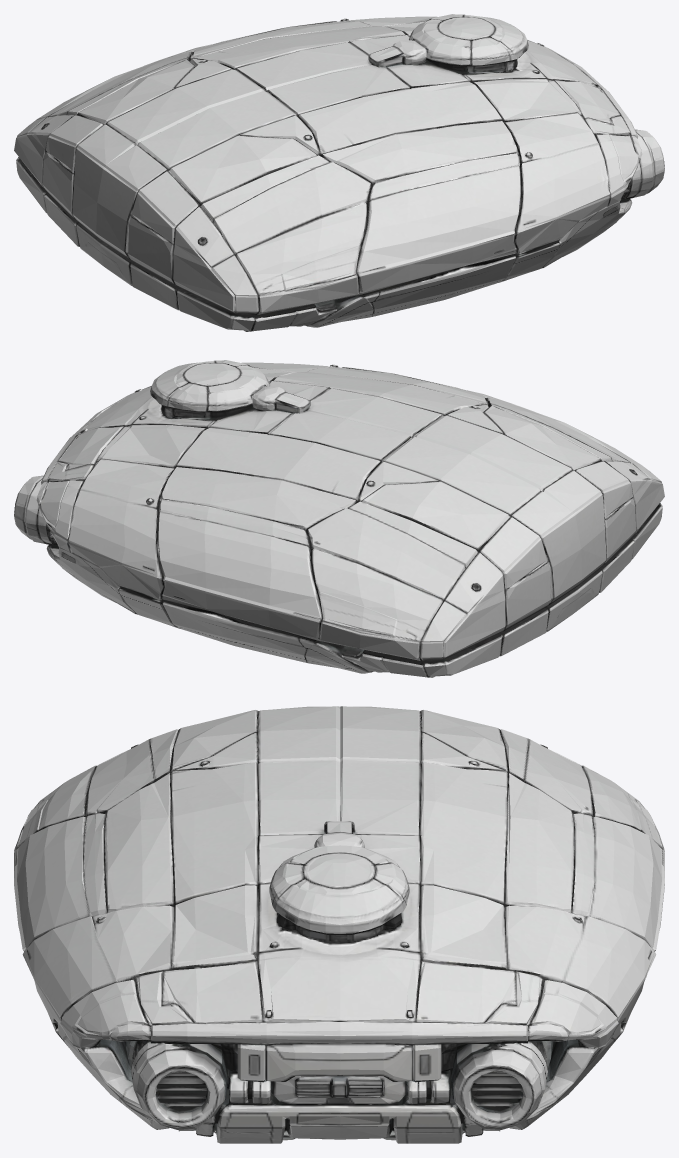
File: ExplorerDroneType1.glb
3 views of the same model, one above another, from view 1: azimuth 30°, elevation 25°; view 2: azimuth 150°, elevation 25°; view 3: azimuth 270°, elevation 25° (orthographic). The views are drawn at different scales.
Parts seen in each view (by area): view 1: tripo_node_07af3392-e8c3-46f0-84d9-83f7ff9d8838; view 2: tripo_node_07af3392-e8c3-46f0-84d9-83f7ff9d8838; view 3: tripo_node_07af3392-e8c3-46f0-84d9-83f7ff9d8838.
Boxes of the visible parts, x1=… form: tripo_node_07af3392-e8c3-46f0-84d9-83f7ff9d8838: x1=14, y1=14, x2=664, y2=331; tripo_node_07af3392-e8c3-46f0-84d9-83f7ff9d8838: x1=14, y1=360, x2=664, y2=677; tripo_node_07af3392-e8c3-46f0-84d9-83f7ff9d8838: x1=14, y1=706, x2=664, y2=1143.
Bounding box in the file's own units: 1 × 0.3699 × 0.8826.
Materials: 1 (1 with a texture image).
